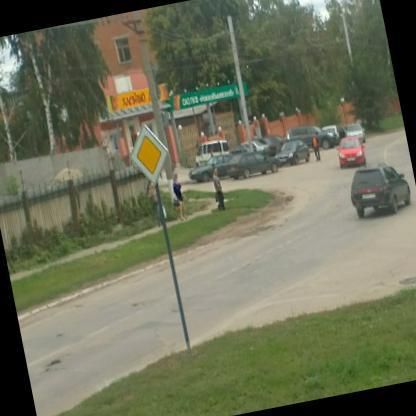road_sign: (132, 119, 167, 182)
